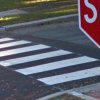Crosswalk: (5, 29, 77, 100)
